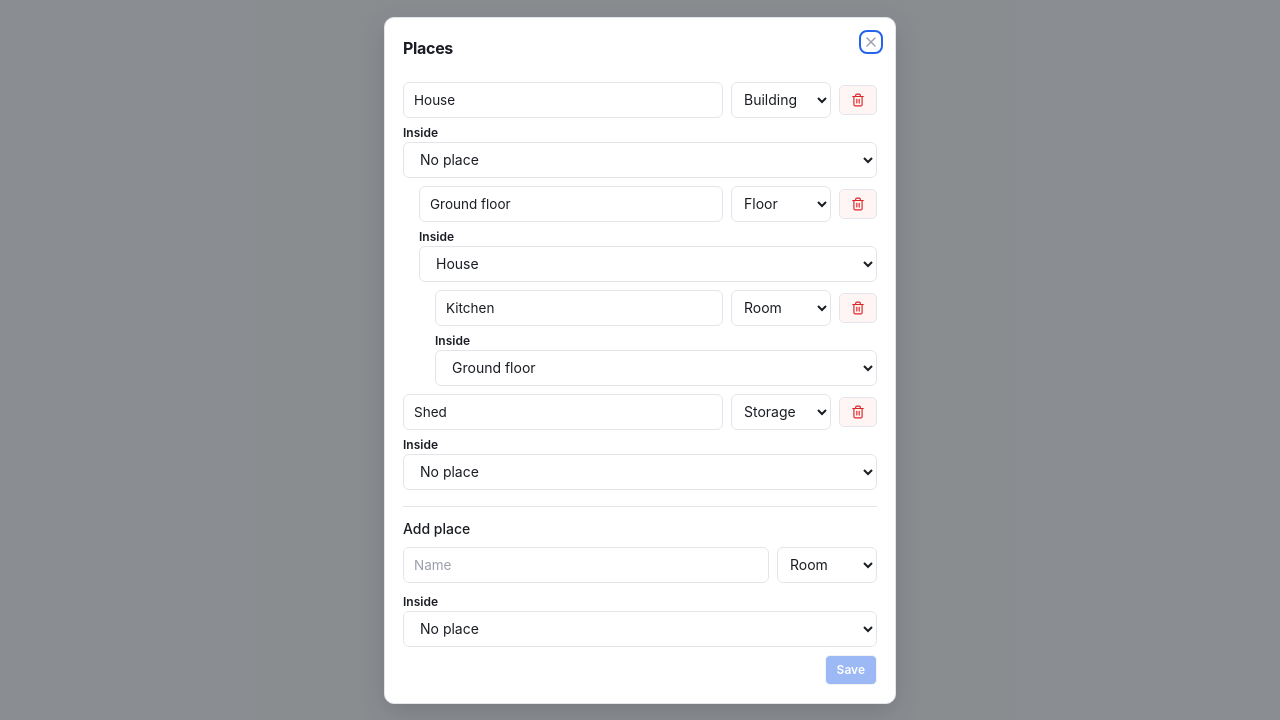
Test: PlaceManager error codes › renders PLACE_TOO_DEEP in plain language
Expected: the 3rd field showing "Kitchen" is shown, [435,290,723,326]
Select "Shed" in the 3rd dropdown labelled "Inside": (656, 368) [435,350,877,386]
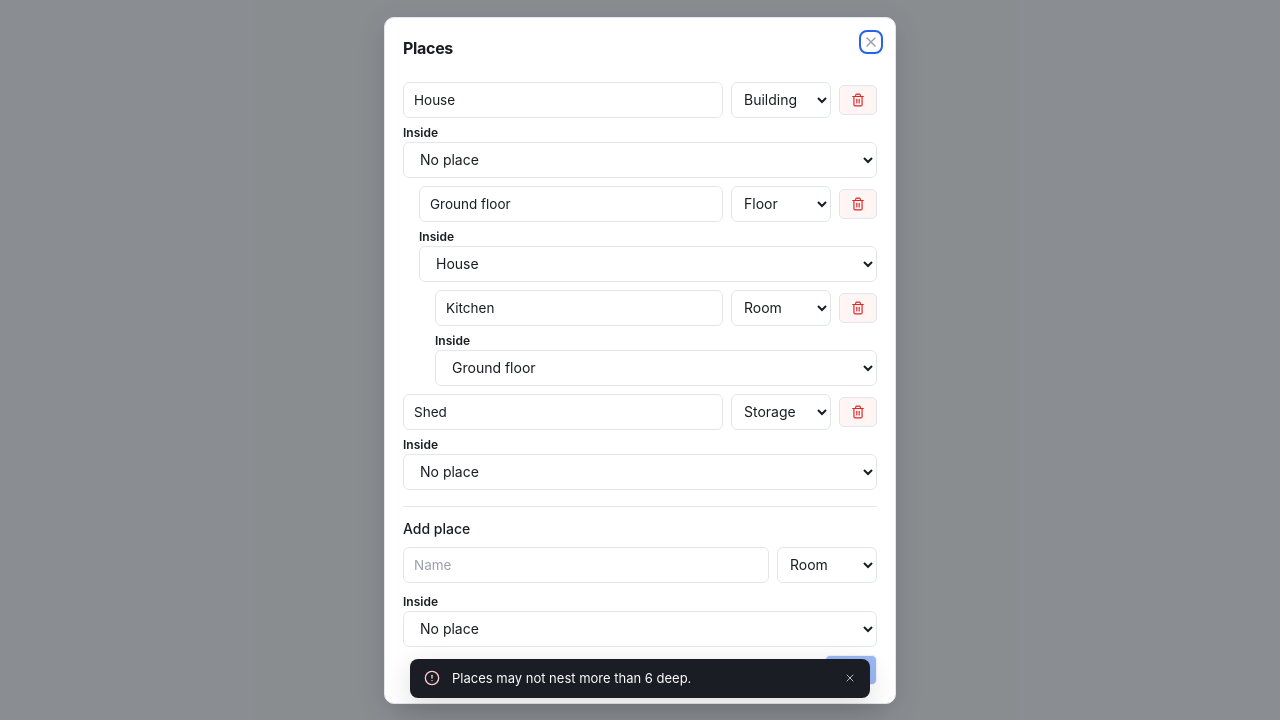
Expected: the text "Places may not nest more than 6 deep." is shown, [452,670,691,686]
